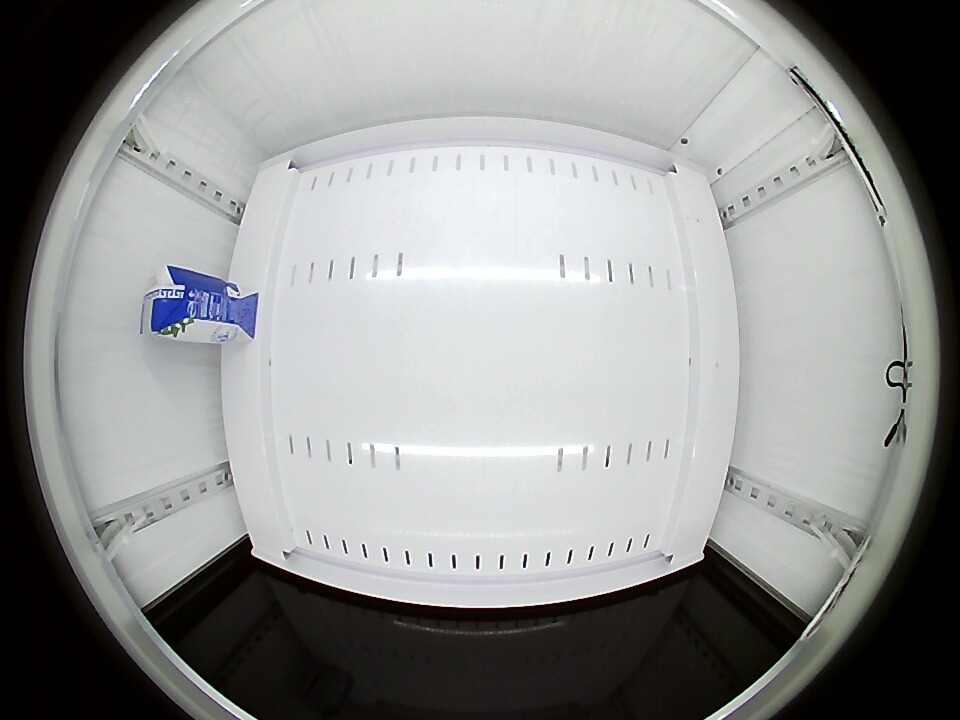anmuxi: (143, 266, 200, 341)
